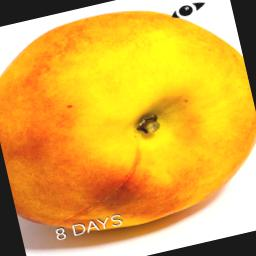Peach Unripe: (0, 0, 256, 254)
